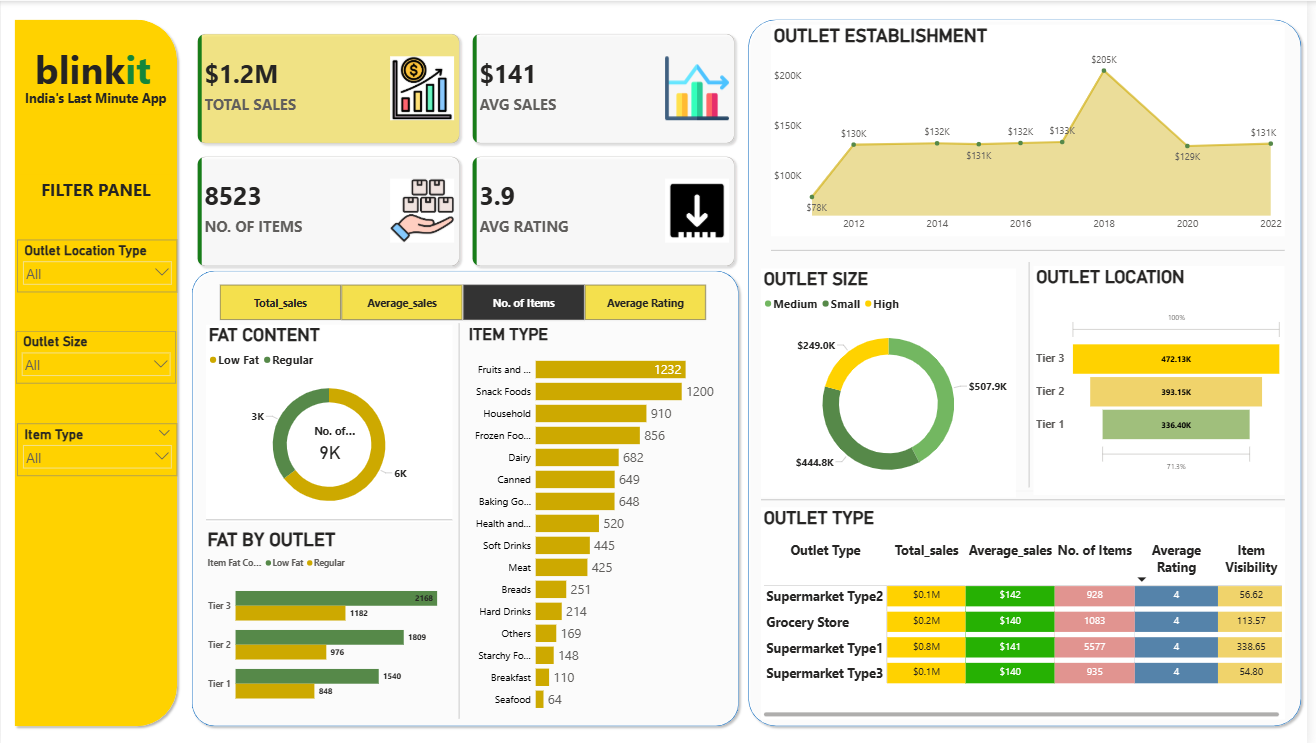

Layout of this report page (visuals, bound fields, positions):
{"tool":"powerbi","page":{"name":"Page 1","canvas":[2450,1400],"ordinal":0},"visuals":[{"type":"shape","box":[16.5,25.9,323.1,1344.3],"z":0},{"type":"textbox","box":[59,73.1,242.9,113.2],"z":1000},{"type":"textbox","box":[349.1,1021.2,323.1,349.1],"z":2000},{"type":"textbox","box":[40.1,162.7,278.3,47.2],"z":3000},{"type":"cardVisual","fields":{"Data":["BlinkIT Grocery Data.Total_sales","BlinkIT Grocery Data.Average_sales","BlinkIT Grocery Data.No. of Items","BlinkIT Grocery Data.Average Rating"]},"box":[351.9,44.6,1043.9,471.5],"z":4000},{"type":"shape","box":[349.5,497.3,1043.9,872.7],"z":5000},{"type":"donutChart","title":" FAT CONTENT","fields":{"Y":["BlinkIT Grocery Data.No. of Items"],"Category":["BlinkIT Grocery Data.Item Fat Content"]},"box":[384.7,607.6,462.1,370.6],"z":6000},{"type":"slicer","fields":{"Values":["MERTICS.MERTICS"]},"box":[384.7,525.5,961.8,79.8],"z":7000},{"type":"cardVisual","fields":{"Data":["BlinkIT Grocery Data.No. of Items"]},"box":[548.9,776.5,136.1,100.9],"z":8000},{"type":"clusteredBarChart","title":"FAT BY OUTLET","fields":{"Y":["BlinkIT Grocery Data.No. of Items"],"Category":["BlinkIT Grocery Data.Outlet Location Type"],"Series":["BlinkIT Grocery Data.Item Fat Content"]},"box":[382.4,990,469.2,356.6],"z":9000},{"type":"shape","box":[1445,912.5,818.7,14.1],"z":10000},{"type":"shape","box":[846.9,605.2,25.8,741.3],"z":11000},{"type":"barChart","title":" ITEM TYPE","fields":{"Y":["BlinkIT Grocery Data.No. of Items"],"Category":["BlinkIT Grocery Data.Item Type"]},"box":[872.7,607.6,473.9,741.3],"z":12000},{"type":"shape","box":[1393.4,25.8,1055.6,1344.2],"z":13000},{"type":"lineChart","title":" OUTLET ESTABLISHMENT","fields":{"Category":["BlinkIT Grocery Data.Outlet Establishment Year"],"Y":["BlinkIT Grocery Data.Total_sales"]},"box":[1445,44.6,964.1,396.4],"z":14000},{"type":"donutChart","title":"OUTLET SIZE","fields":{"Y":["BlinkIT Grocery Data.Total_sales"],"Category":["BlinkIT Grocery Data.Outlet Size"]},"box":[1426.3,502,478.6,429.3],"z":15000},{"type":"shape","box":[1921.3,490.3,16.4,422.3],"z":16000},{"type":"funnel","title":" OUTLET LOCATION","fields":{"Y":["Sum(BlinkIT Grocery Data.Sales)"],"Category":["BlinkIT Grocery Data.Outlet Location Type"]},"box":[1937.7,497.3,471.5,429.3],"z":17000},{"type":"shape","box":[384.7,968.8,462.1,9.4],"z":18000},{"type":"pivotTable","title":"OUTLET TYPE","fields":{"Rows":["BlinkIT Grocery Data.Outlet Type"],"Values":["BlinkIT Grocery Data.Total_sales","BlinkIT Grocery Data.Average_sales","BlinkIT Grocery Data.No. of Items","BlinkIT Grocery Data.Average Rating","Sum(BlinkIT Grocery Data.Item Visibility)"]},"box":[1426.3,950.1,982.9,398.8],"z":19000},{"type":"shape","box":[1445,459.8,964.1,16.4],"z":20000},{"type":"shape","box":[1426.3,926.6,982.9,18.8],"z":21000},{"type":"slicer","fields":{"Values":["BlinkIT Grocery Data.Outlet Location Type"]},"box":[30.5,448.1,300.3,98.5],"z":22000},{"type":"slicer","fields":{"Values":["BlinkIT Grocery Data.Outlet Size"]},"box":[28.2,619.3,300.3,98.5],"z":23000},{"type":"slicer","fields":{"Values":["BlinkIT Grocery Data.Item Type"]},"box":[30.5,792.9,300.3,98.5],"z":24000},{"type":"textbox","box":[28.2,326.1,300.3,61],"z":25000}]}

Visuals, with their boxes in screenshot pixels (x1, y1, x2, y2), scaled from the page's 2450x1400 canvas onto the 1316x743 screenshot:
shape: Rect(9, 14, 182, 727)
textbox: Rect(32, 39, 162, 99)
textbox: Rect(188, 542, 361, 727)
textbox: Rect(22, 86, 171, 111)
cardVisual - BlinkIT Grocery Data.Total_sales x BlinkIT Grocery Data.Average_sales: Rect(189, 24, 750, 274)
shape: Rect(188, 264, 748, 727)
" FAT CONTENT" donutChart: Rect(207, 322, 455, 519)
slicer - MERTICS.MERTICS: Rect(207, 279, 723, 321)
cardVisual - BlinkIT Grocery Data.No. of Items: Rect(295, 412, 368, 466)
"FAT BY OUTLET" clusteredBarChart: Rect(205, 525, 457, 715)
shape: Rect(776, 484, 1216, 492)
shape: Rect(455, 321, 469, 715)
" ITEM TYPE" barChart: Rect(469, 322, 723, 716)
shape: Rect(748, 14, 1315, 727)
" OUTLET ESTABLISHMENT" lineChart: Rect(776, 24, 1294, 234)
"OUTLET SIZE" donutChart: Rect(766, 266, 1023, 494)
shape: Rect(1032, 260, 1041, 484)
" OUTLET LOCATION" funnel: Rect(1041, 264, 1294, 492)
shape: Rect(207, 514, 455, 519)
"OUTLET TYPE" pivotTable: Rect(766, 504, 1294, 716)
shape: Rect(776, 244, 1294, 253)
shape: Rect(766, 492, 1294, 502)
slicer - BlinkIT Grocery Data.Outlet Location Type: Rect(16, 238, 178, 290)
slicer - BlinkIT Grocery Data.Outlet Size: Rect(15, 329, 176, 381)
slicer - BlinkIT Grocery Data.Item Type: Rect(16, 421, 178, 473)
textbox: Rect(15, 173, 176, 205)
